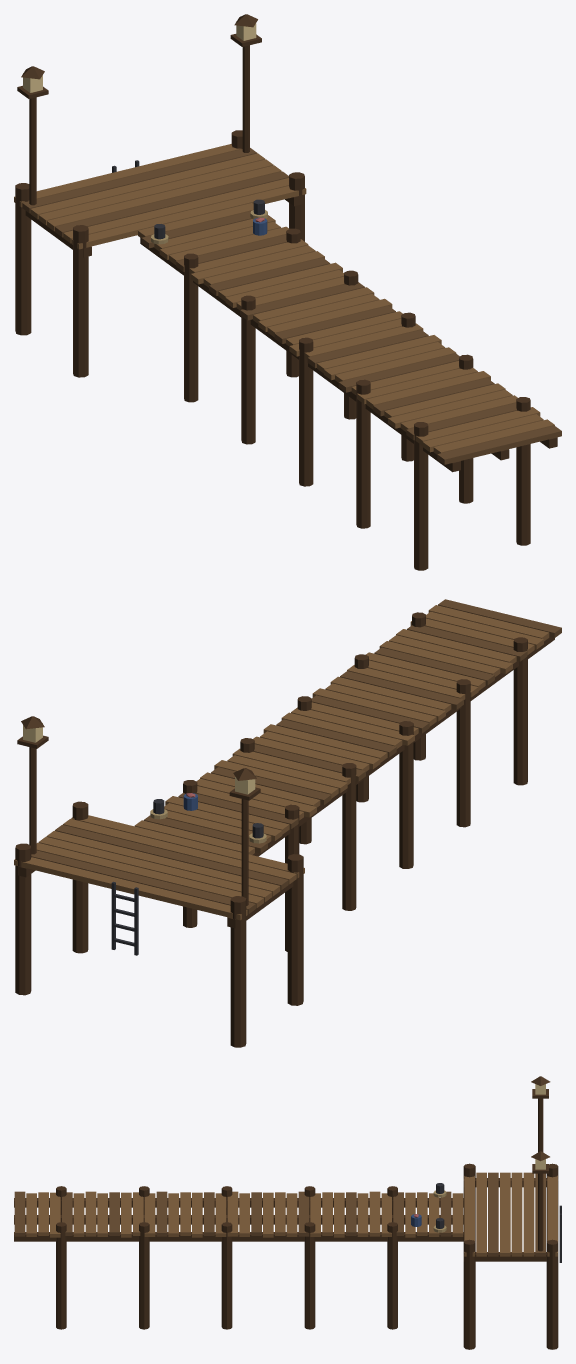
File: Dock.glb
3 views of the same model, one above another, from view 1: azimuth 30°, elevation 25°; view 2: azimuth 150°, elevation 25°; view 3: azimuth 270°, elevation 25° (orthographic). The views are drawn at different scales.
Visible parts, largest first — view 1: Dock; view 2: Dock; view 3: Dock.
Part boxes in pixels (x1,y1,x2,y2): Dock: (14,14,561,570); Dock: (14,599,561,1047); Dock: (14,1076,561,1349).
Bounding box in the file's own units: 16.7 × 18.2 × 46.3.
